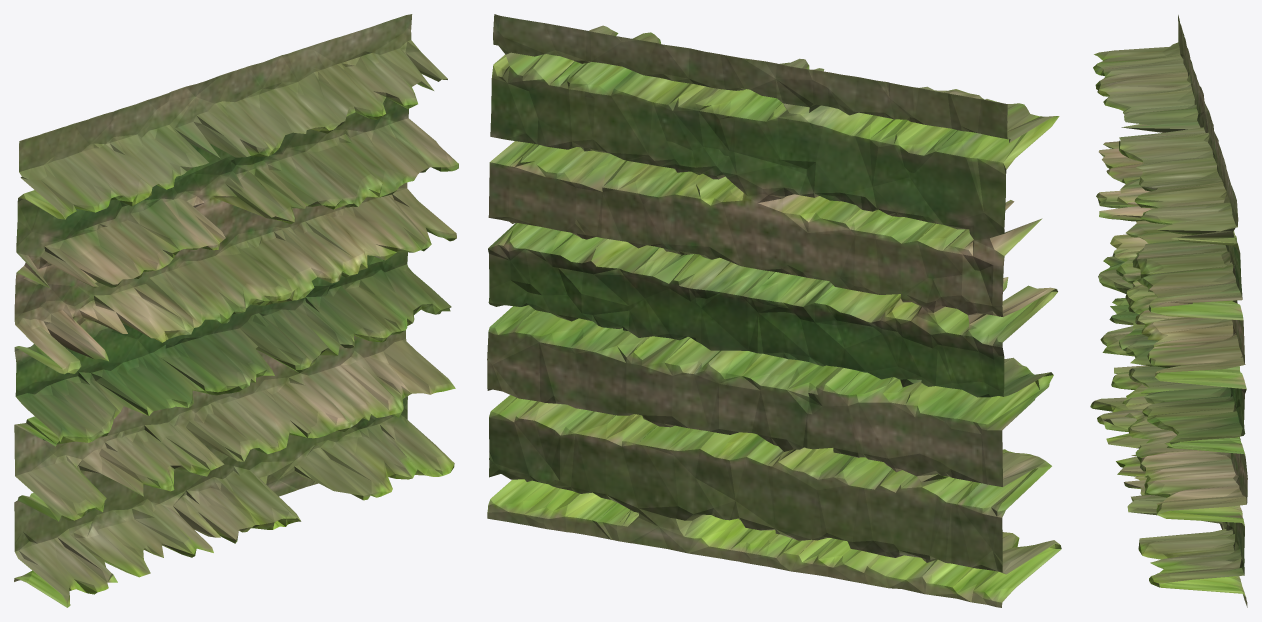
Rendered from map_170_40.obj.
The picture shows the model from 3 angles, left to right: view 1: azimuth 30°, elevation 25°; view 2: azimuth 150°, elevation 25°; view 3: azimuth 270°, elevation 25°; orthographic projection. The views are drawn at different scales.
Parts seen in each view (by area): view 1: grp1; view 2: grp1; view 3: grp1.
Part boxes in pixels (x1,y1,x2,y2): grp1: [14, 14, 458, 607]; grp1: [487, 14, 1061, 607]; grp1: [1090, 15, 1247, 607].
Bounding box in the file's own units: 10 × 10 × 3.53.
Materials: 1 (1 with a texture image).
